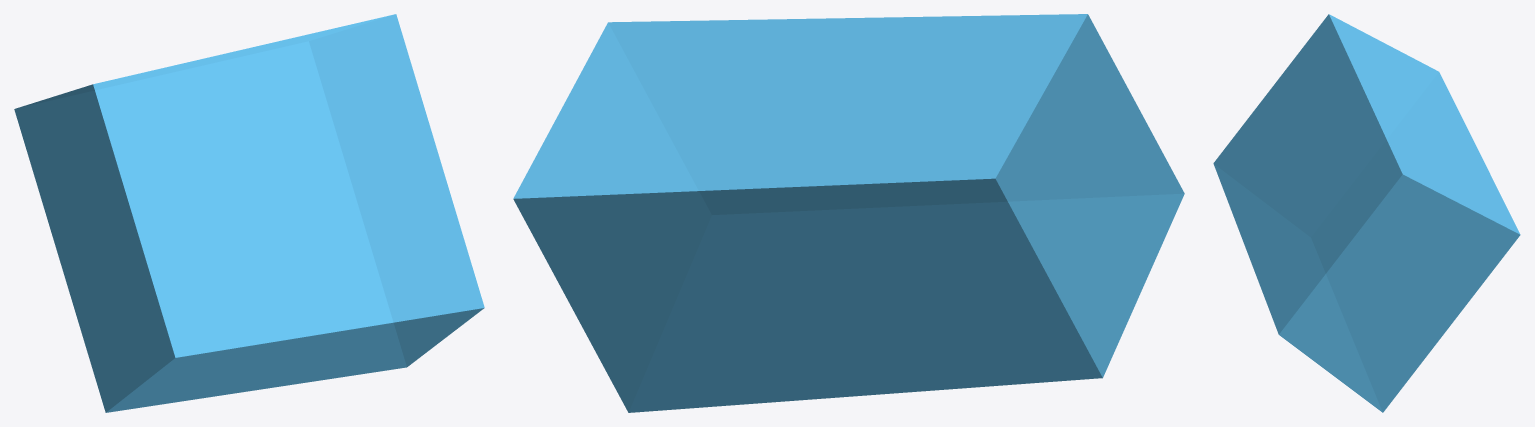
The model's file is Event_420094457_HErechit_34.fbx.
The picture shows the model from 3 angles, left to right: view 1: azimuth 30°, elevation 25°; view 2: azimuth 150°, elevation 25°; view 3: azimuth 270°, elevation 25°; orthographic projection. The views are drawn at different scales.
Visible parts, largest first — view 1: Model; view 2: Model; view 3: Model.
Part boxes in pixels (left/top/right/bottom): Model: left=14, top=14, right=484, bottom=412; Model: left=513, top=14, right=1184, bottom=412; Model: left=1213, top=14, right=1520, bottom=412.
Size of the model in its own units: 0.7521 by 0.8026 by 0.8026.
